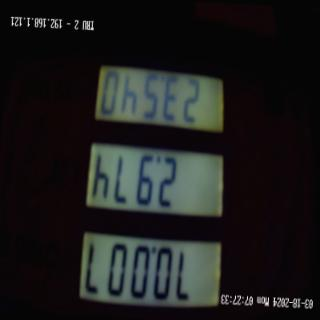screen: (69, 26, 236, 320)
